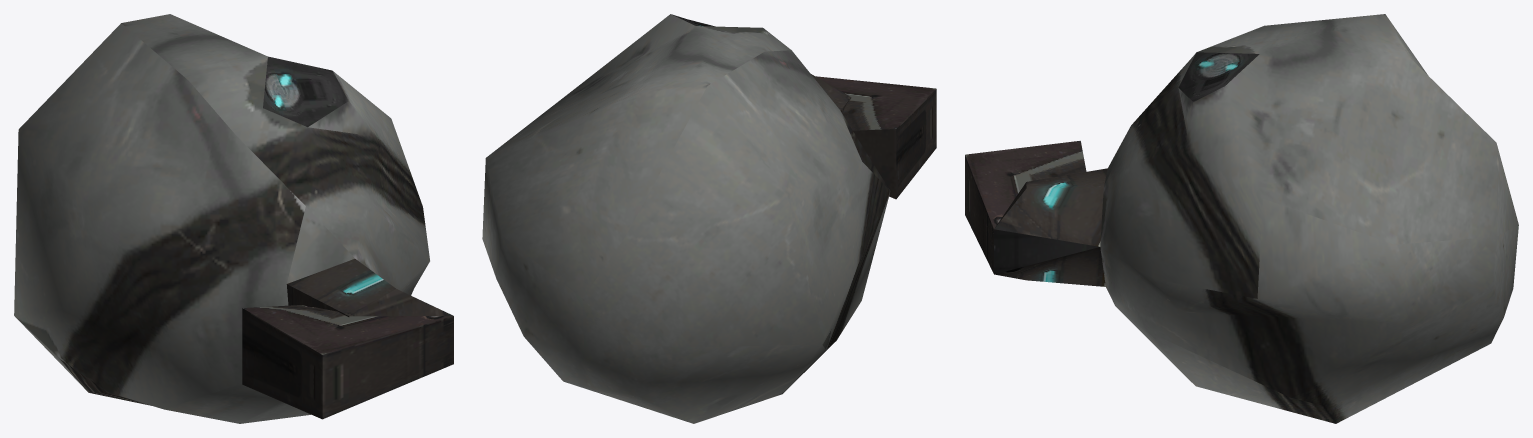
File: t6_wpn_grenade_semtex_projectile_LOD1.obj
The picture shows the model from 3 angles, left to right: view 1: azimuth 30°, elevation 25°; view 2: azimuth 150°, elevation 25°; view 3: azimuth 270°, elevation 25°; orthographic projection. The views are drawn at different scales.
Visible parts, largest first — view 1: mtl_t6_wpn_grenade_semtex; view 2: mtl_t6_wpn_grenade_semtex; view 3: mtl_t6_wpn_grenade_semtex.
Part boxes in pixels (<box>): mtl_t6_wpn_grenade_semtex: <box>14,14,453,423</box>; mtl_t6_wpn_grenade_semtex: <box>482,14,936,423</box>; mtl_t6_wpn_grenade_semtex: <box>965,14,1518,423</box>.
Bounding box in the file's own units: 7.65 × 7.86 × 11.18.
